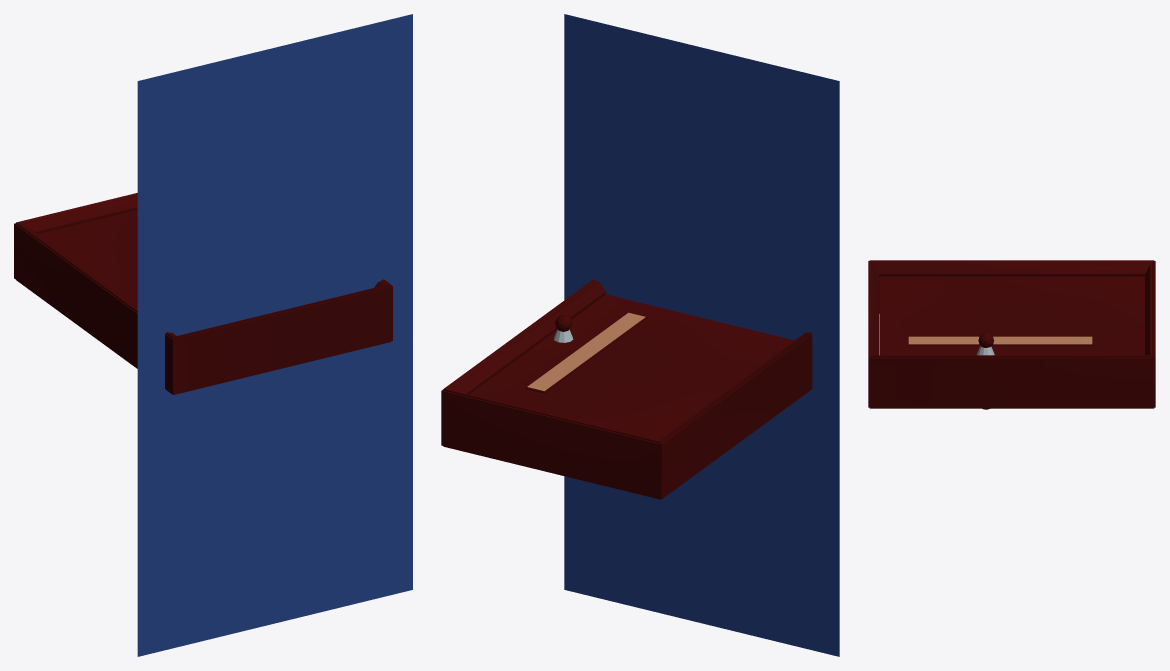
Rendered from RealRoomDoor_MeetingRoom.fbx.
The picture shows the model from 3 angles, left to right: view 1: azimuth 30°, elevation 25°; view 2: azimuth 150°, elevation 25°; view 3: azimuth 270°, elevation 25°; orthographic projection. The views are drawn at different scales.
Parts seen in each view (by area): view 1: Plane.300, menkuang.006, door.003; view 2: Plane.300, menkuang.006, door.003; view 3: menkuang.006, door.003.
Part boxes in pixels (<box>): Plane.300: <box>137,14,412,656</box>; menkuang.006: <box>14,193,392,394</box>; door.003: <box>38,210,137,306</box>; Plane.300: <box>564,14,839,656</box>; menkuang.006: <box>441,279,812,499</box>; door.003: <box>469,294,794,440</box>; menkuang.006: <box>868,260,1155,408</box>; door.003: <box>879,276,1144,409</box>.
Size of the model in its own units: 2 by 4 by 2.
